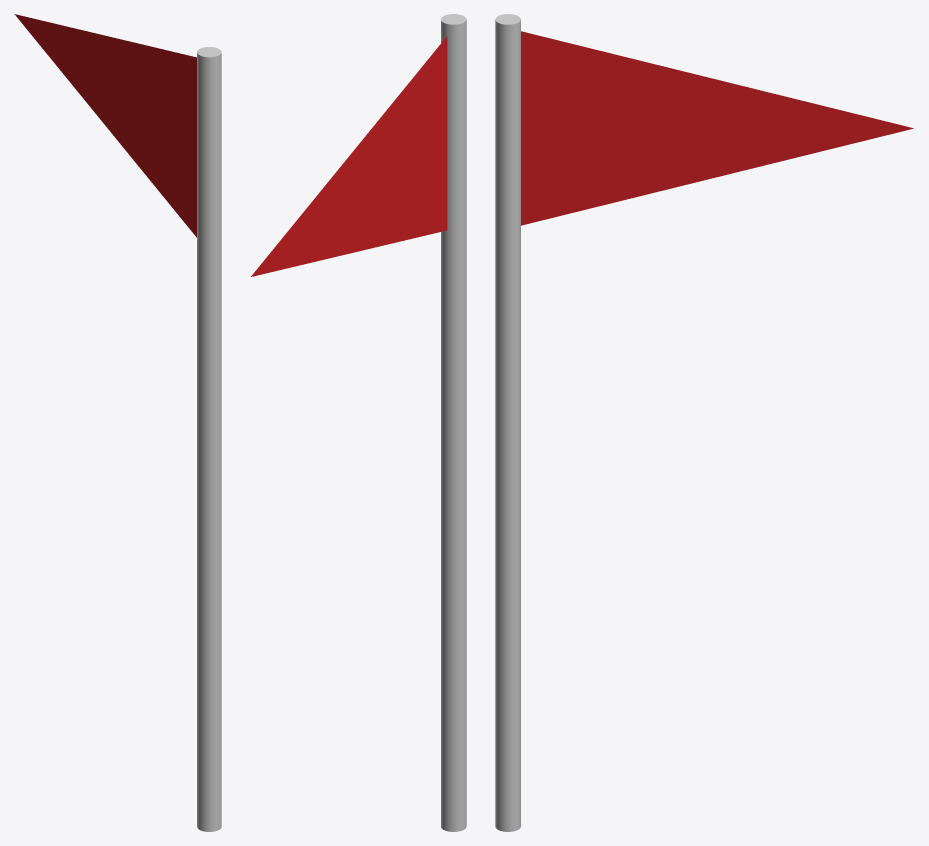
File: Flag.fbx
3 renders of one model, left to right at view 1: azimuth 30°, elevation 25°; view 2: azimuth 150°, elevation 25°; view 3: azimuth 270°, elevation 25°, orthographic. The views are drawn at different scales.
Parts seen in each view (by area): view 1: FlagPole, Flag; view 2: FlagPole, Flag; view 3: Flag, FlagPole.
Part boxes in pixels (box(x1,y1,x2,y2)): FlagPole: box(197, 47, 221, 831); Flag: box(14, 14, 196, 237); FlagPole: box(441, 14, 466, 831); Flag: box(251, 36, 447, 276); Flag: box(521, 31, 913, 225); FlagPole: box(495, 14, 520, 831).
Size of what is drawn, in the model's own units: 20 by 696 by 328.
